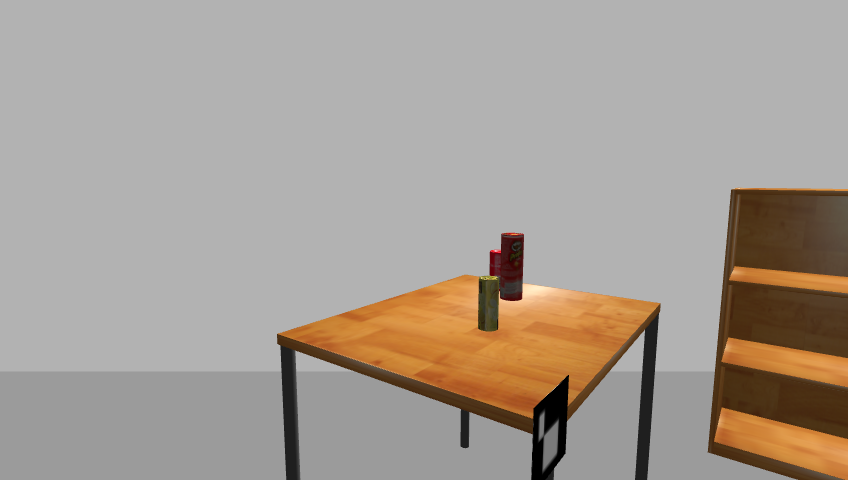aruco marker: (528, 377, 573, 480)
biscuits pack: (477, 276, 501, 333)
bookshelf: (705, 187, 848, 479)
coke can: (488, 250, 505, 293)
dinner table: (271, 275, 666, 480)
pringles can: (501, 231, 524, 300)
